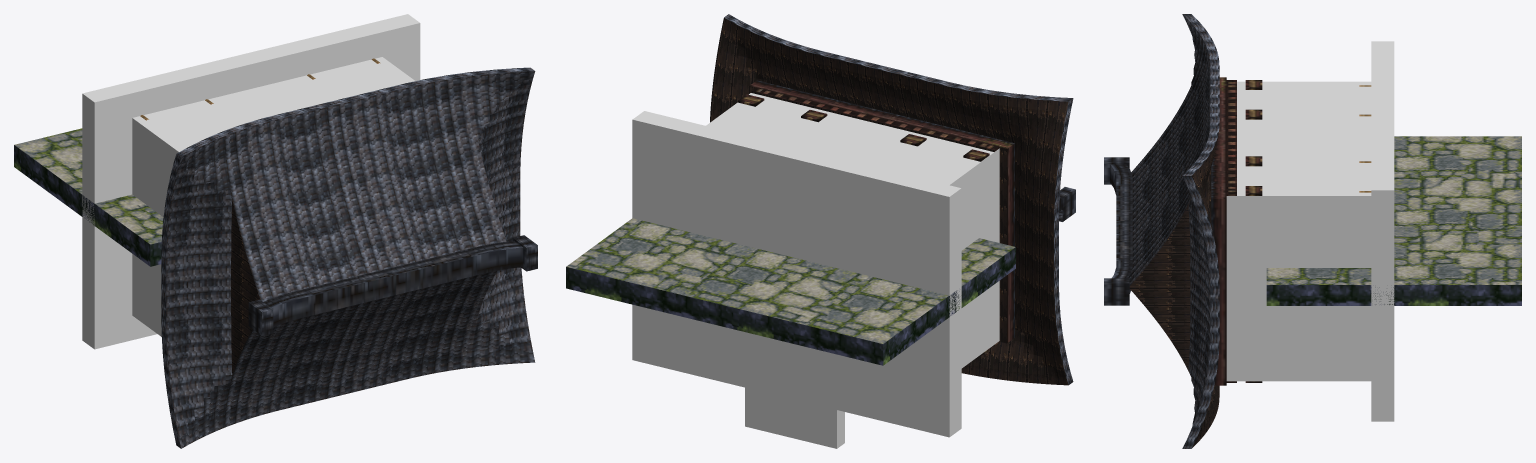
File: ShrineHall.fbx
The picture shows the model from 3 angles, left to right: view 1: azimuth 30°, elevation 25°; view 2: azimuth 150°, elevation 25°; view 3: azimuth 270°, elevation 25°; orthographic projection. The views are drawn at different scales.
Visible parts, largest first — view 1: GEO_Shrine_Roof_Main, COL_Shrine_Platform, COL_Shrine_Main, GEO_Shrine_Roof_Ridge, GEO_Shrine_Platform; view 2: COL_Shrine_Platform, GEO_Shrine_Platform, GEO_Shrine_Roof_Main, COL_Shrine_Main, GEO_Shrine_Beams, COL_Shrine_Stairs, GEO_Shrine_Brackets, GEO_Shrine_Columns, GEO_Shrine_Roof_Ridge; view 3: COL_Shrine_Main, GEO_Shrine_Platform, GEO_Shrine_Roof_Main, COL_Shrine_Platform, GEO_Shrine_Beams, GEO_Shrine_Roof_Ridge, GEO_Shrine_Brackets, GEO_Shrine_Columns.
Part boxes in pixels (x1,y1,x2,y2): GEO_Shrine_Roof_Main: [161, 67, 535, 448]; COL_Shrine_Platform: [82, 14, 420, 349]; COL_Shrine_Main: [132, 57, 414, 336]; GEO_Shrine_Roof_Ridge: [248, 235, 537, 335]; GEO_Shrine_Platform: [14, 128, 163, 266]; COL_Shrine_Platform: [632, 111, 961, 437]; GEO_Shrine_Platform: [566, 218, 1015, 365]; GEO_Shrine_Roof_Main: [710, 14, 1073, 385]; COL_Shrine_Main: [706, 93, 999, 368]; GEO_Shrine_Beams: [749, 80, 1014, 343]; COL_Shrine_Stairs: [745, 387, 844, 448]; GEO_Shrine_Brackets: [751, 87, 999, 346]; GEO_Shrine_Columns: [738, 94, 989, 355]; GEO_Shrine_Roof_Ridge: [1059, 187, 1075, 221]; COL_Shrine_Main: [1226, 81, 1371, 381]; GEO_Shrine_Platform: [1266, 136, 1521, 305]; GEO_Shrine_Roof_Main: [1128, 14, 1219, 448]; COL_Shrine_Platform: [1371, 41, 1394, 421]; GEO_Shrine_Beams: [1211, 77, 1226, 385]; GEO_Shrine_Roof_Ridge: [1104, 157, 1132, 305]; GEO_Shrine_Brackets: [1226, 80, 1236, 382]; GEO_Shrine_Columns: [1245, 80, 1371, 382].
Bounding box in the file's own units: 7.5 × 6.26 × 8.18.
Materials: 7 (7 with a texture image).
